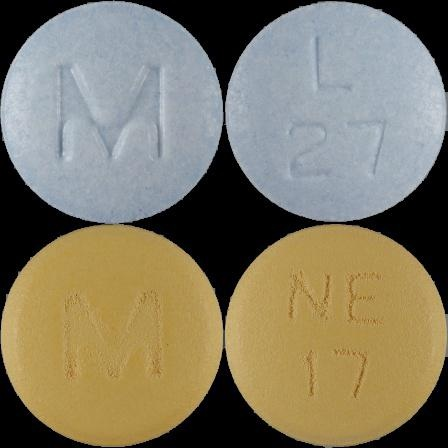0378-2077: (0, 0, 224, 224)
